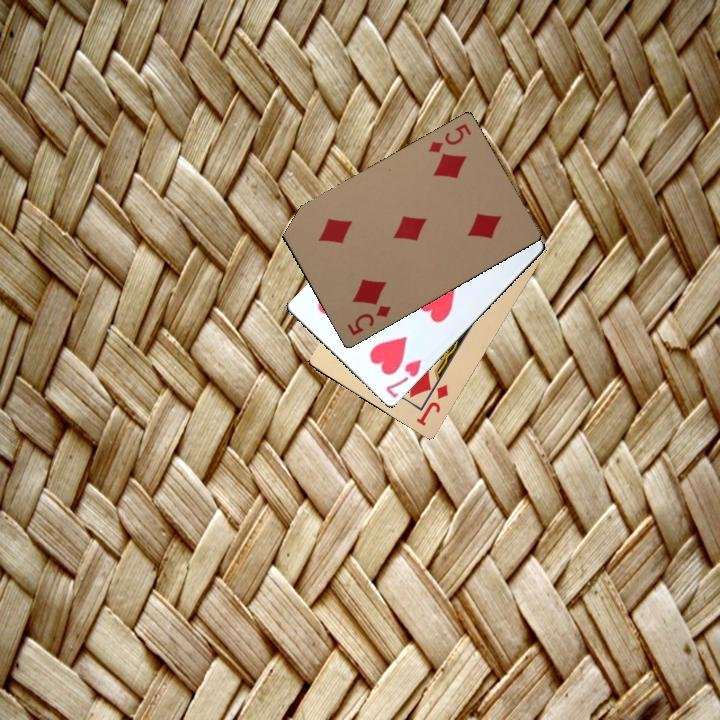5d: (343, 301, 394, 338), (424, 119, 474, 155)
7h: (381, 355, 424, 400)
Jd: (412, 373, 451, 428)
